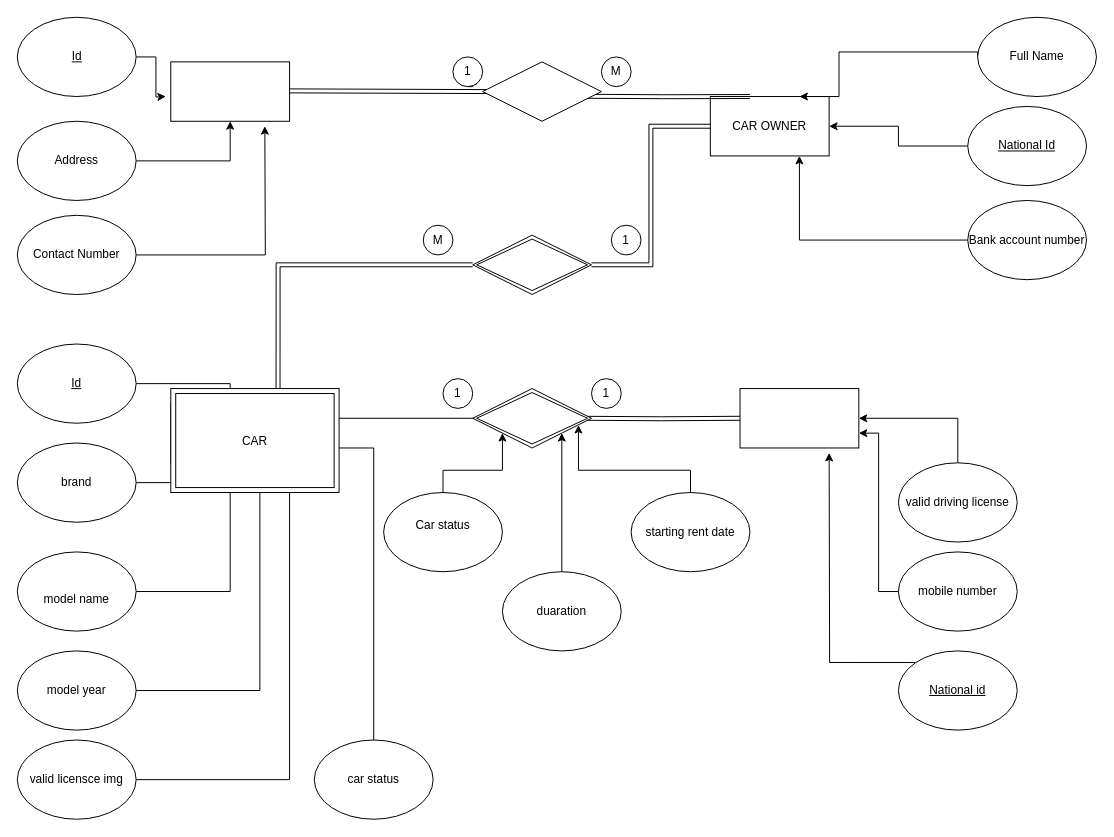
The diagram is 1114 pixels wide and 837 high, and some of its shapes have lost their labels. Each missing label, with the centre of its shape:
OFFICE: (230,91)
own: (532,264)
Register: (541,91)
RENT: (532,418)
TENANT: (799,418)
